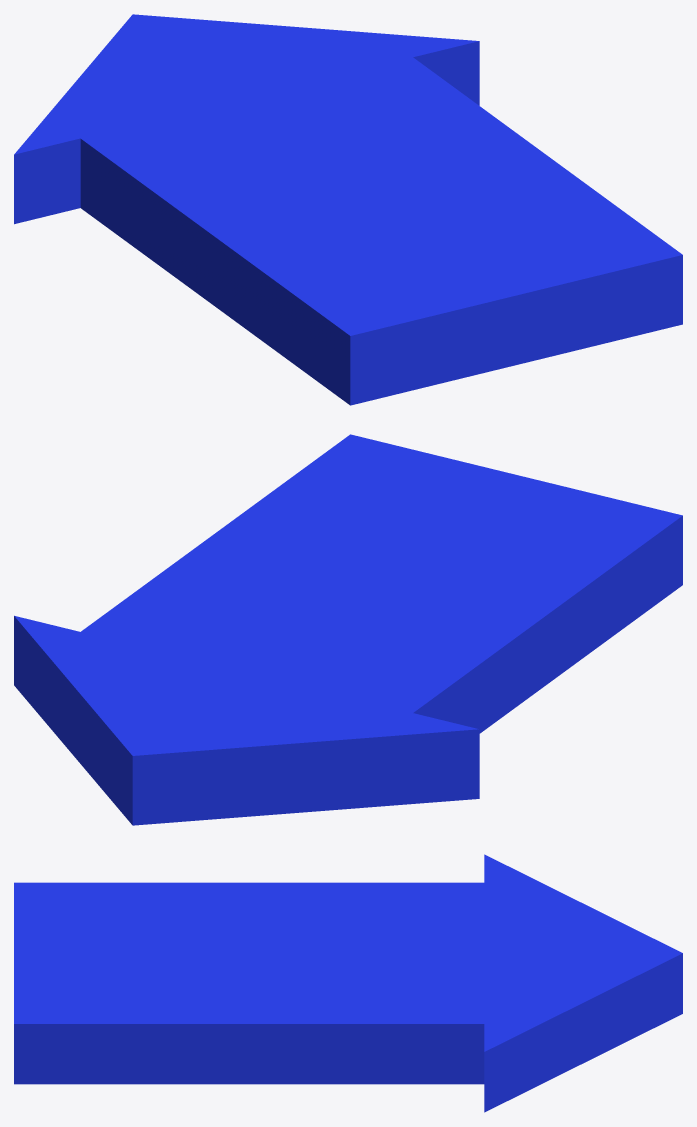
File: arrow_blue.glb
The picture shows the model from 3 angles, top to bottom: view 1: azimuth 30°, elevation 25°; view 2: azimuth 150°, elevation 25°; view 3: azimuth 270°, elevation 25°; orthographic projection. The views are drawn at different scales.
Visible parts, largest first — view 1: Arrow__0; view 2: Arrow__0; view 3: Arrow__0.
Boxes of the visible parts, bbox=[...] form: Arrow__0: bbox=[14, 14, 682, 405]; Arrow__0: bbox=[14, 434, 682, 825]; Arrow__0: bbox=[14, 854, 682, 1112].
Size of the model in its own units: 0.7 by 0.1 by 1.
